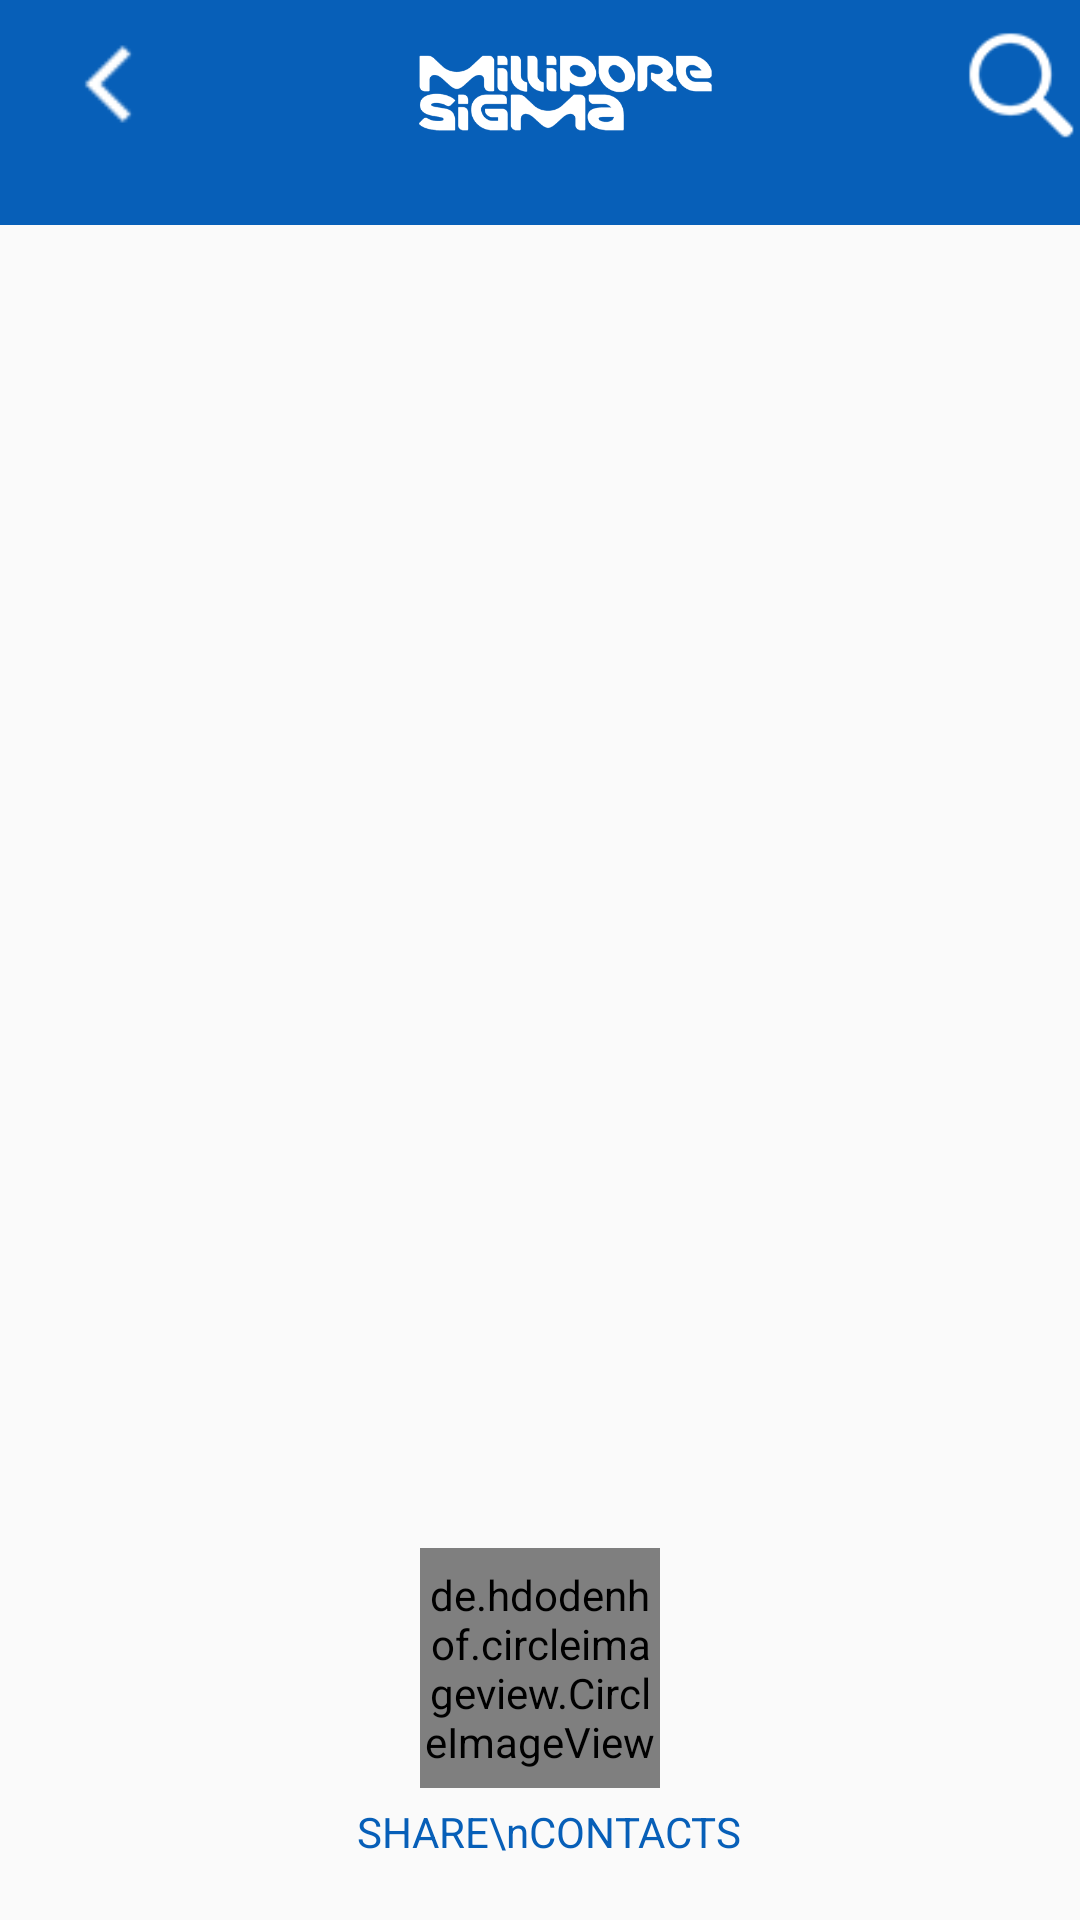

Point at icon controls on the screen. Image size 1080px×1920px, points as point (x, y).
back bu: point (108, 84)
search: point (1021, 85)
